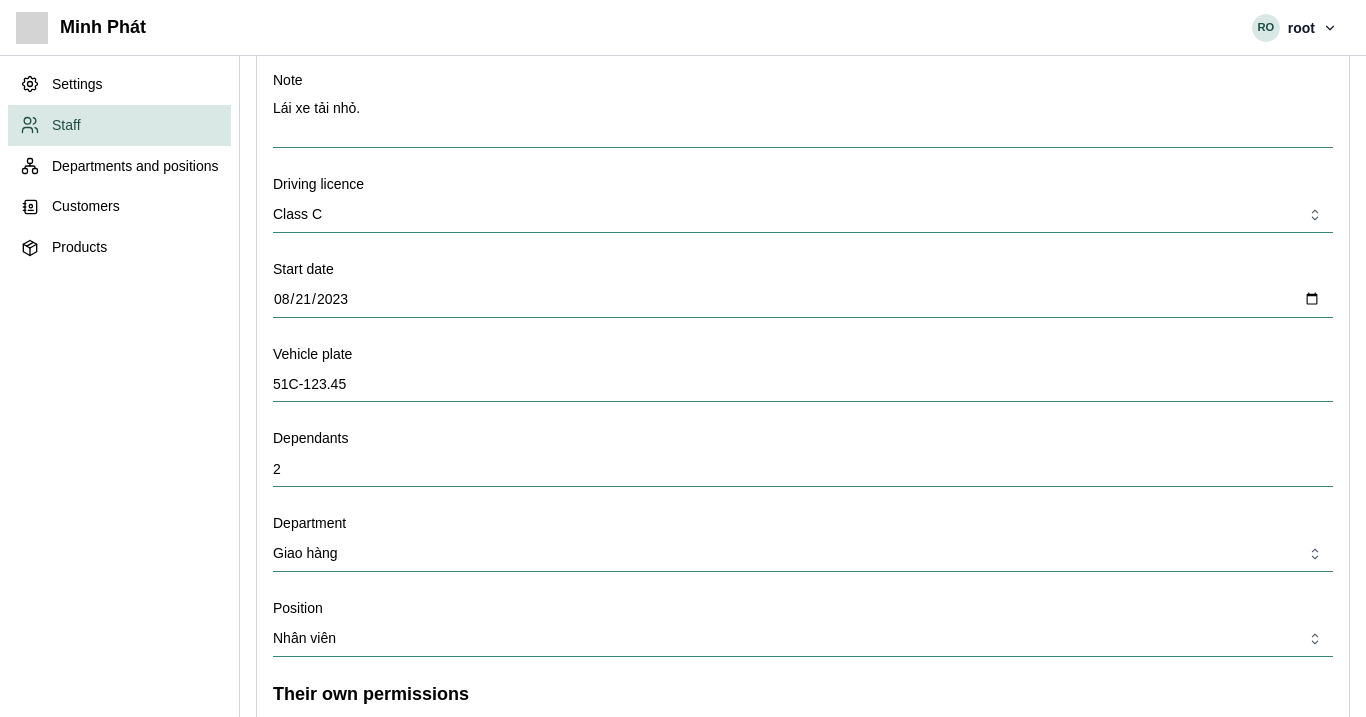
the company’s own fields › A form that drops a key it does not show erases it: this one keeps a key it does not know and a field turned off, and an emptied field removes its key
This screenshot has width=1366, height=717.
(page scrolled)
Clear the field labelled "Vehicle plate". click: (803, 384)
box: [273,366,1333,402]
(page scrolled)
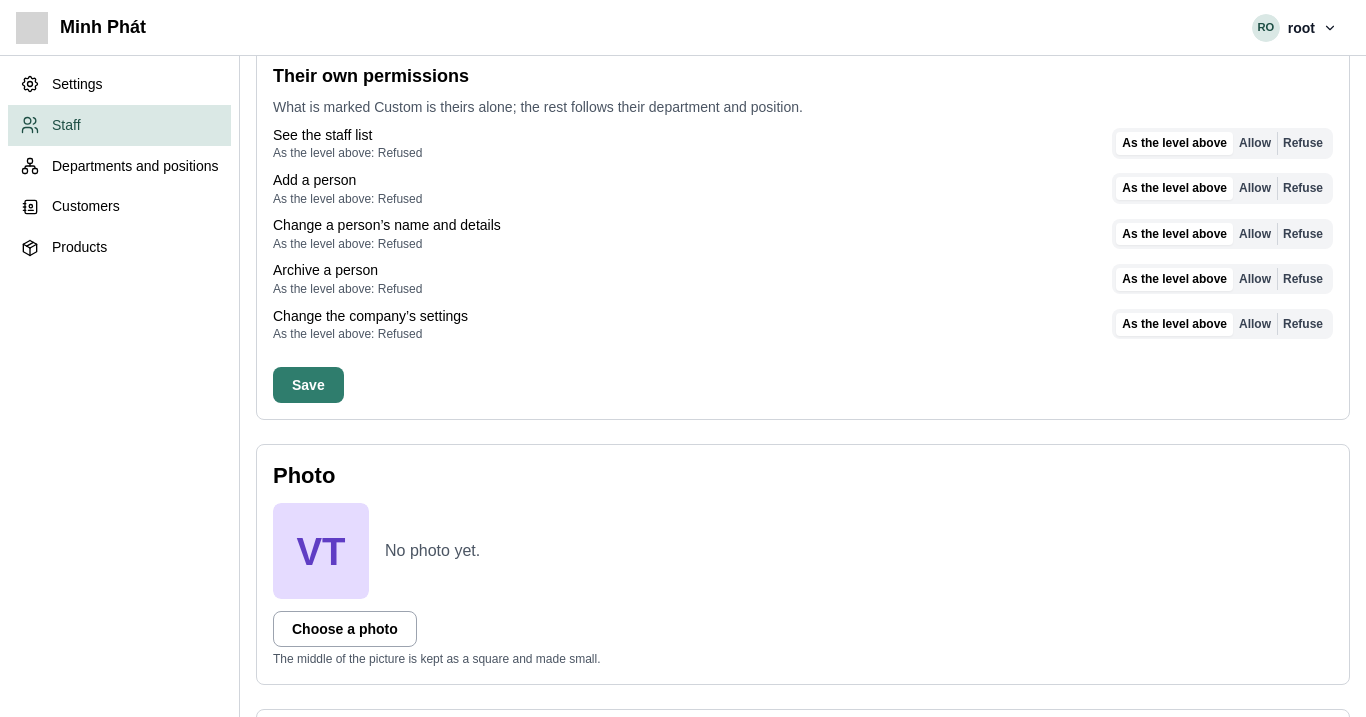
Click the button "Save". click: click(308, 385)
box: [273,367,344,403]
(page scrolled)
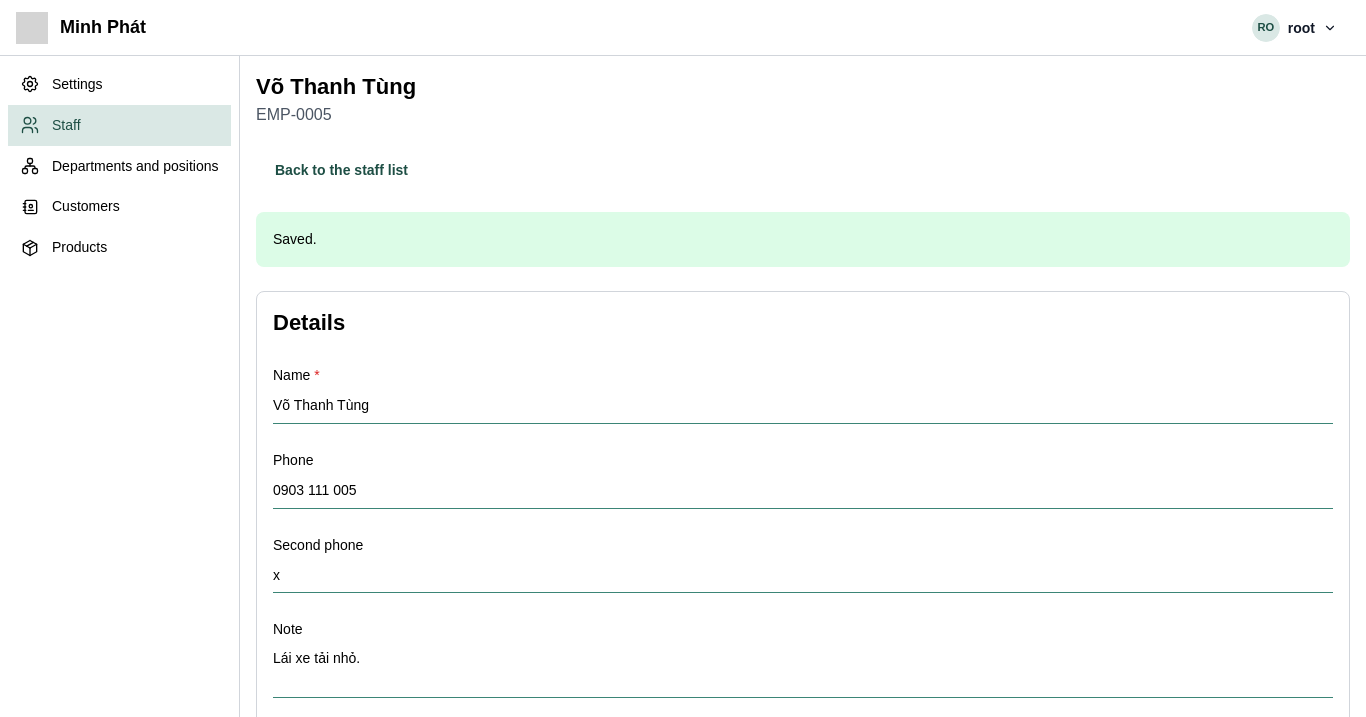
Expected: the text "Saved." is shown, [273,231,317,247]
